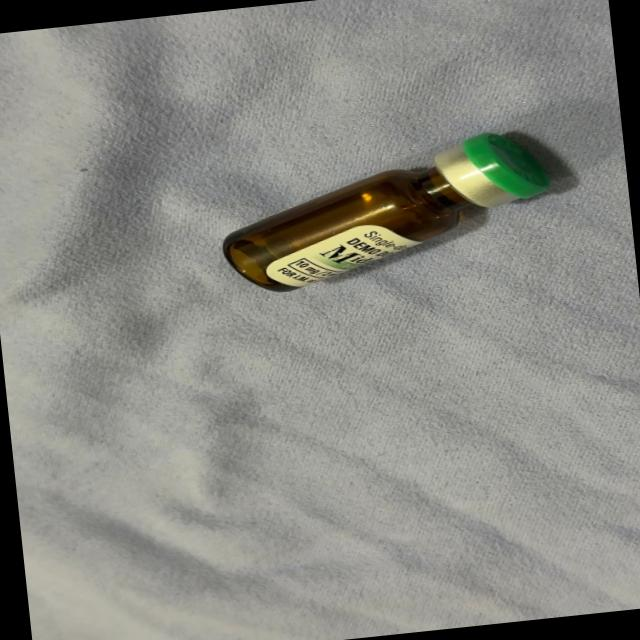midazolm: (218, 128, 552, 294)
